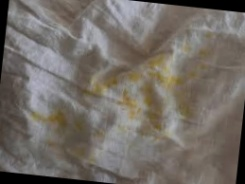mustard: (86, 60, 138, 104), (170, 89, 199, 130), (142, 100, 167, 136), (162, 63, 194, 91), (44, 146, 89, 163), (122, 90, 147, 119), (142, 51, 166, 81), (34, 108, 68, 125), (135, 83, 155, 111), (69, 123, 99, 135), (197, 48, 213, 64), (182, 43, 193, 53), (202, 32, 214, 39)
